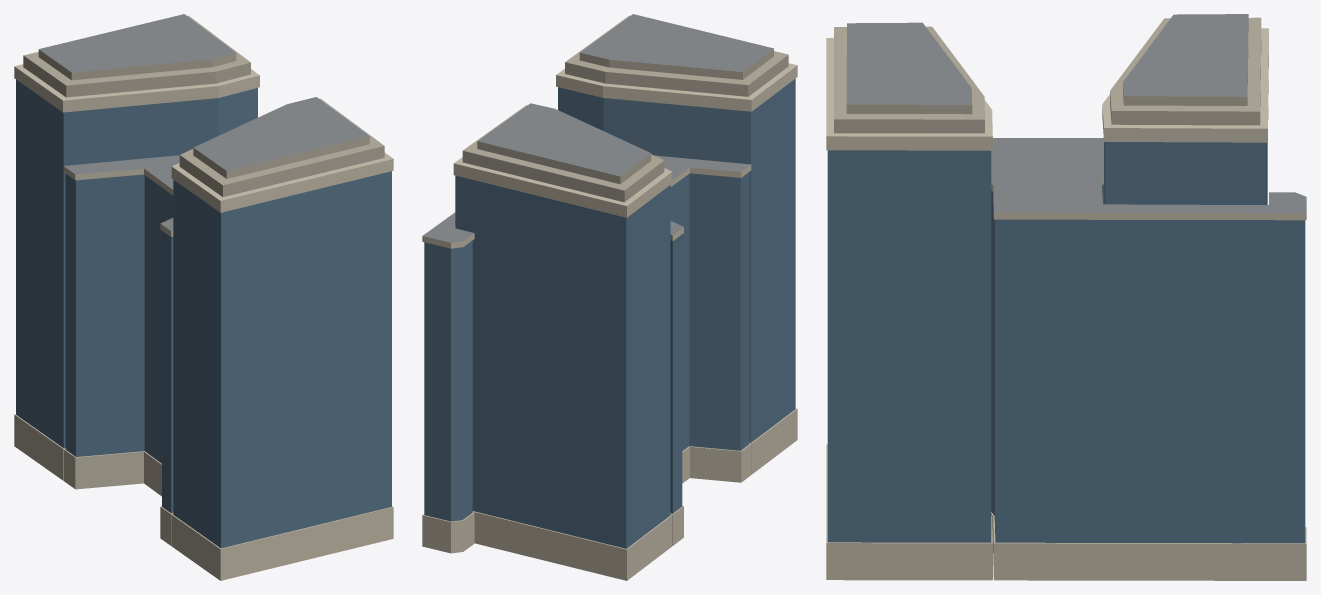
The model's file is american_towers.glb.
3 renders of one model, left to right at view 1: azimuth 30°, elevation 25°; view 2: azimuth 150°, elevation 25°; view 3: azimuth 270°, elevation 25°, orthographic. The views are drawn at different scales.
Parts seen in each view (by area): view 1: AmericanTowers; view 2: AmericanTowers; view 3: AmericanTowers.
Boxes of the visible parts, box(x1,y1,x2,y2) form: AmericanTowers: box(14, 14, 393, 580); AmericanTowers: box(422, 14, 797, 580); AmericanTowers: box(826, 14, 1306, 580).
Bounding box in the file's own units: 50.45 × 101 × 94.02.
